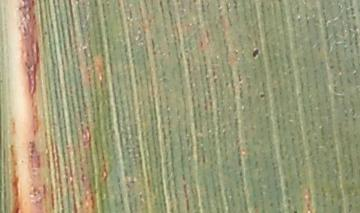tarspot: (251, 46, 260, 60), (223, 79, 231, 88), (258, 91, 266, 99), (327, 63, 335, 71), (290, 208, 298, 213), (191, 1, 198, 4)
